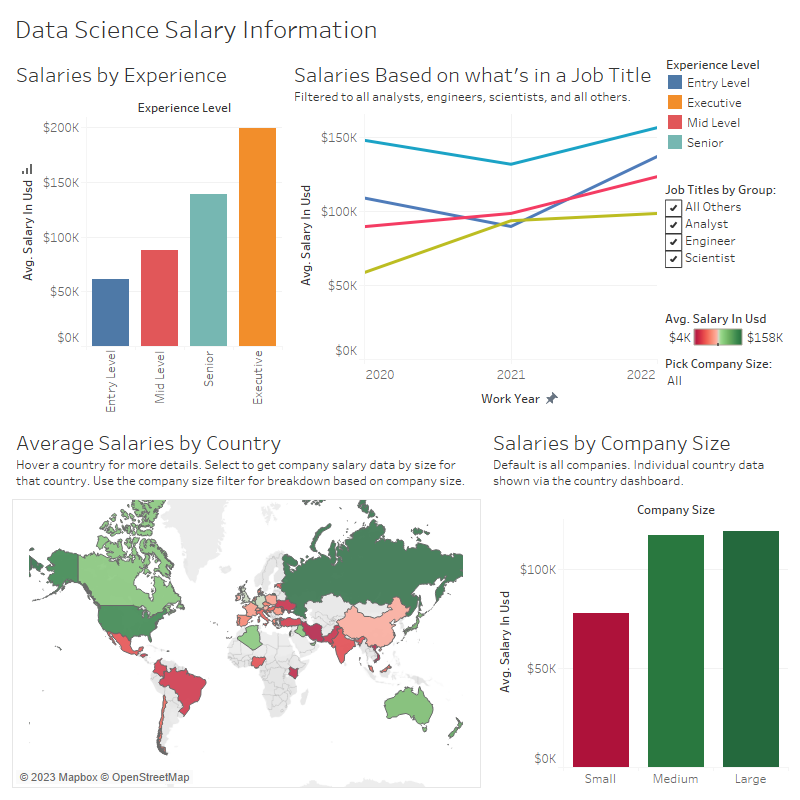

The dashboard page shown, as its layout file describes it:
{"tool":"tableau","page":{"name":"Data Science Salary Information","canvas":[800,800],"ordinal":0},"visuals":[{"type":"title","box":[8,8,784,42]},{"type":"worksheet","title":"Salaries by Experience Level","mark":"Bar","rows":["salary_in_usd"],"cols":["experience_level"],"box":[8,50,278,368]},{"type":"worksheet","title":"Salaries by Group","mark":"Automatic","rows":["salary_in_usd"],"cols":["work_year"],"box":[286,50,375,368]},{"type":"legend","title":"Salaries by Experience Level","param":"[federated.1ccyhpp1p2kzkt1dvclef0cvjvce].[none:experience_level:nk]","box":[661,50,131,126]},{"type":"filter","title":"Salaries by Group","param":"[federated.1ccyhpp1p2kzkt1dvclef0cvjvce].[none:Calculation_1318991776545640452:n","box":[661,176,131,126]},{"type":"legend","title":"Average Salaries by Country","param":"[federated.1ccyhpp1p2kzkt1dvclef0cvjvce].[avg:salary_in_usd:qk]","box":[661,302,131,48]},{"type":"filter","title":"Salaries by Company Size","param":"[federated.1ccyhpp1p2kzkt1dvclef0cvjvce].[none:company_size:nk]","box":[661,350,131,52]},{"type":"worksheet","title":"Average Salaries by Country","mark":"Automatic","box":[8,418,477,374]},{"type":"worksheet","title":"Salaries by Company Size","mark":"Bar","rows":["salary_in_usd"],"cols":["company_size"],"box":[485,418,307,374]}]}

Visuals, with their boxes in screenshot pixels (x1, y1, x2, y2), scaled from the page's 800x800 canvas onto the 800x800 screenshot:
title: region(8, 8, 792, 50)
"Salaries by Experience Level" worksheet (Bar marks): region(8, 50, 286, 418)
"Salaries by Group" worksheet: region(286, 50, 661, 418)
"Salaries by Experience Level" legend: region(661, 50, 792, 176)
"Salaries by Group" filter: region(661, 176, 792, 302)
"Average Salaries by Country" legend: region(661, 302, 792, 350)
"Salaries by Company Size" filter: region(661, 350, 792, 402)
"Average Salaries by Country" worksheet: region(8, 418, 485, 792)
"Salaries by Company Size" worksheet (Bar marks): region(485, 418, 792, 792)
